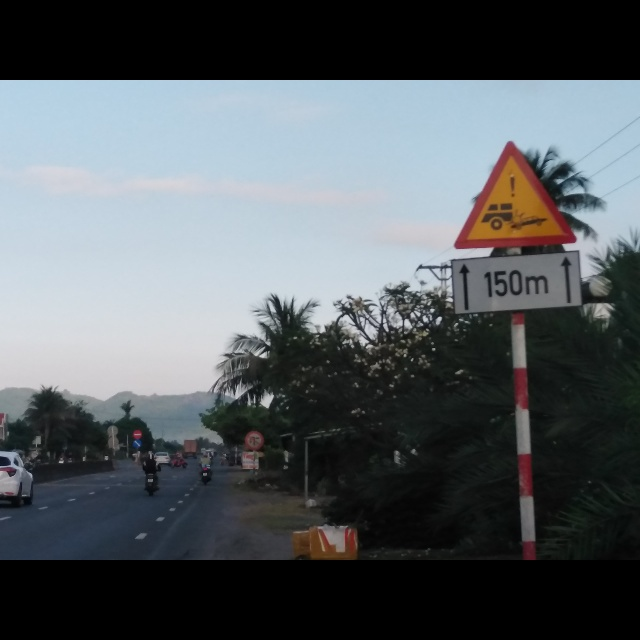Đoạn đường hay xảy ra tai nạn: (453, 139, 579, 251)
